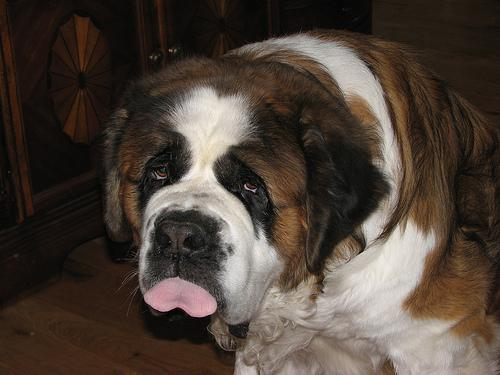dog-saint_bernard: (99, 73, 378, 322)
